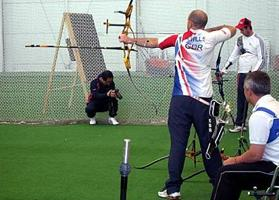person: (118, 10, 237, 200)
